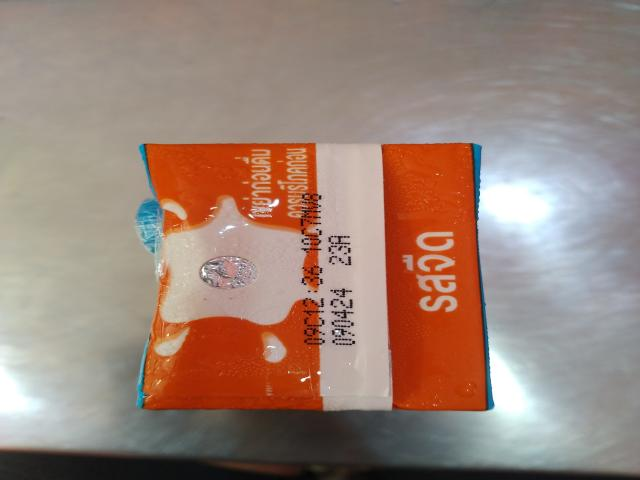drink_box: (110, 130, 544, 436)
